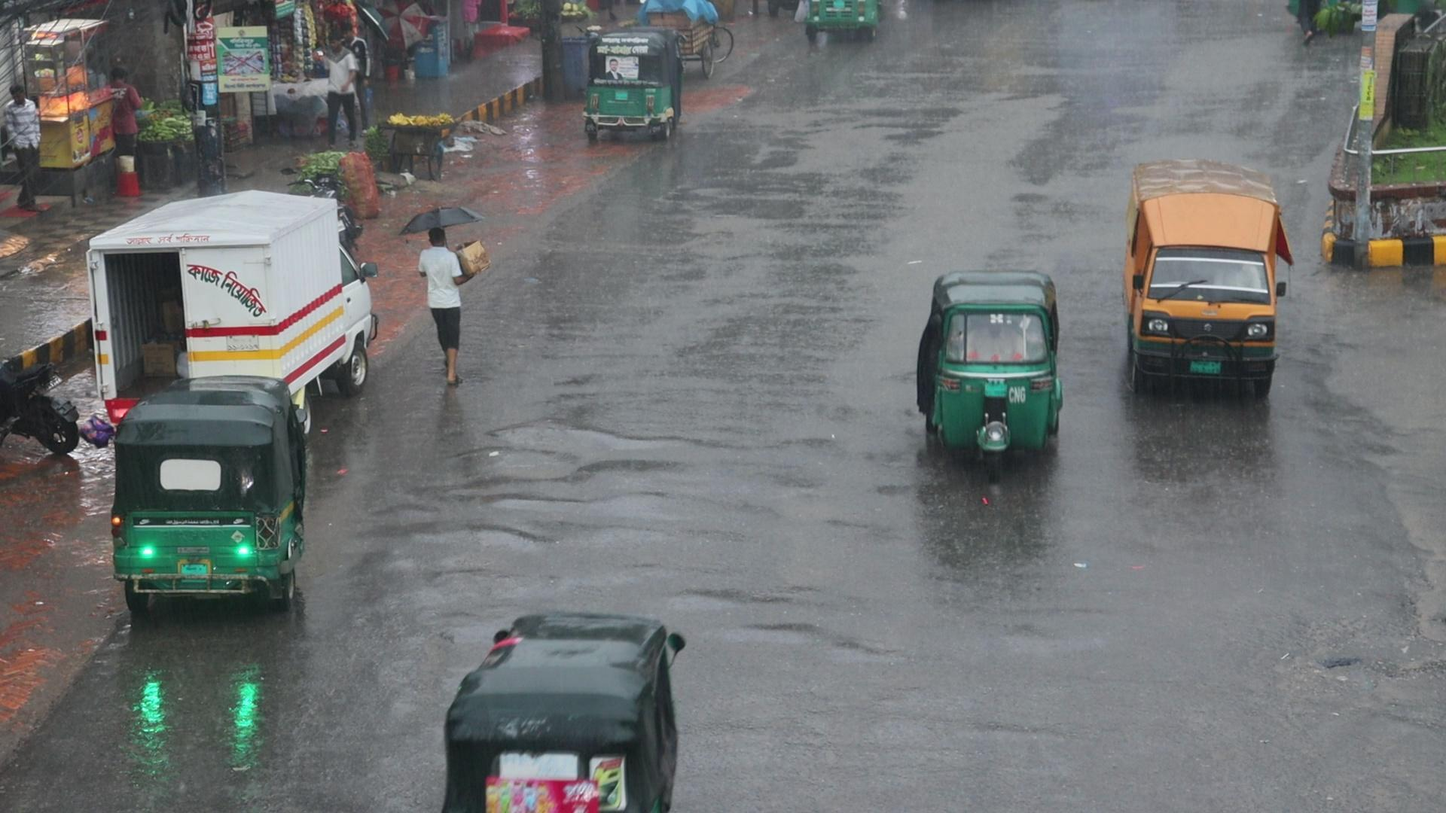Truck: (1124, 151, 1287, 400)
